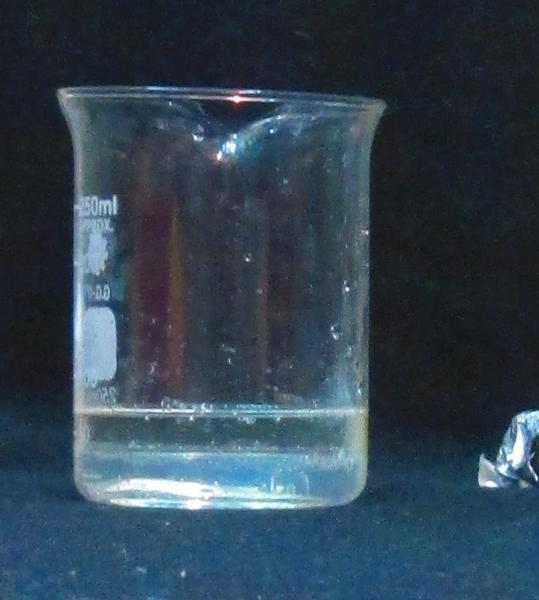Beaker: (55, 74, 395, 509)
